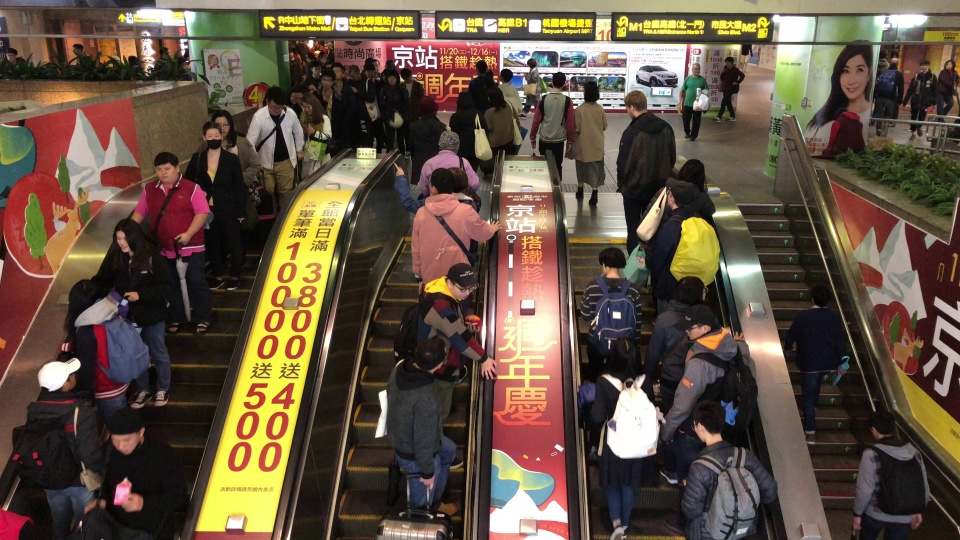person_head: (108, 408, 143, 456), (692, 398, 727, 443), (604, 335, 640, 377), (412, 337, 447, 375), (683, 304, 717, 338), (66, 278, 99, 312), (446, 263, 476, 300), (672, 275, 709, 305), (113, 217, 142, 253), (44, 361, 76, 393), (152, 150, 179, 183), (677, 159, 705, 188), (622, 89, 648, 120), (868, 410, 896, 438), (597, 245, 627, 271), (666, 180, 694, 207), (428, 168, 452, 194), (210, 110, 234, 135), (437, 129, 461, 153), (809, 283, 833, 307), (202, 120, 223, 146), (266, 86, 285, 113), (416, 94, 439, 115), (448, 166, 468, 190), (583, 79, 601, 103), (300, 93, 318, 116), (454, 90, 473, 110), (550, 70, 567, 91), (319, 67, 335, 89), (488, 86, 503, 105), (498, 67, 513, 84), (309, 59, 322, 77), (347, 63, 361, 79), (386, 69, 400, 85), (399, 66, 412, 83), (5, 45, 17, 62), (475, 59, 487, 76), (333, 64, 345, 79), (71, 43, 84, 56), (363, 62, 375, 76), (526, 57, 538, 71), (159, 47, 171, 60), (886, 60, 900, 71), (127, 55, 139, 67), (295, 86, 304, 102), (834, 107, 847, 118), (944, 58, 955, 69), (308, 79, 317, 92), (373, 58, 381, 72), (384, 60, 395, 70), (725, 56, 735, 67), (919, 59, 930, 69), (691, 62, 700, 74), (111, 55, 120, 65), (325, 41, 332, 49), (288, 47, 293, 58), (313, 40, 317, 44)
person_vbox: (658, 304, 759, 536), (412, 262, 497, 473), (95, 216, 179, 411), (128, 151, 213, 336), (644, 277, 717, 485), (586, 334, 657, 540), (380, 336, 460, 516), (678, 398, 778, 540), (23, 360, 99, 540), (95, 407, 188, 540), (181, 119, 247, 291), (639, 159, 705, 326), (409, 168, 502, 286), (56, 277, 127, 431), (614, 89, 678, 257), (850, 409, 930, 540), (783, 282, 847, 444), (650, 179, 721, 315), (580, 244, 644, 378), (393, 161, 480, 258), (245, 85, 304, 215), (528, 70, 576, 182), (572, 80, 609, 207), (416, 129, 480, 198), (210, 110, 261, 188), (404, 93, 445, 185), (448, 91, 488, 174), (809, 106, 868, 161), (297, 92, 333, 179), (902, 57, 937, 139), (677, 62, 712, 141), (397, 66, 425, 158), (380, 69, 409, 155), (483, 86, 521, 151), (712, 56, 746, 123), (876, 59, 902, 137), (518, 57, 548, 121), (311, 66, 342, 126), (938, 58, 959, 121), (347, 64, 376, 107), (466, 59, 496, 97), (333, 64, 356, 113), (497, 68, 522, 113), (288, 47, 302, 80), (741, 41, 753, 71), (310, 40, 325, 55)
